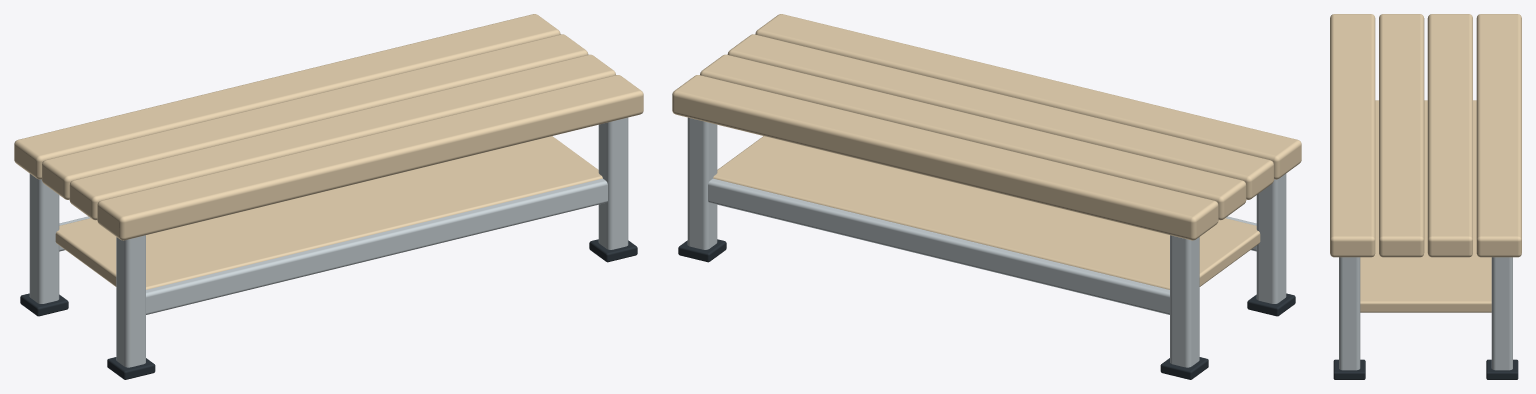
File: squash-club-and-racket-workshop-changing-bench-d5ccbc12__29769.glb
3 views of the same model, side by side, from view 1: azimuth 30°, elevation 25°; view 2: azimuth 150°, elevation 25°; view 3: azimuth 270°, elevation 25° (orthographic). The views are drawn at different scales.
Parts seen in each view (by area): view 1: changing-bench; view 2: changing-bench; view 3: changing-bench.
Part boxes in pixels (bbox=[...]): changing-bench: bbox=[14, 14, 643, 379]; changing-bench: bbox=[672, 14, 1301, 379]; changing-bench: bbox=[1330, 14, 1521, 379].
Size of the model in its own units: 1.5 by 0.4499 by 0.54.
